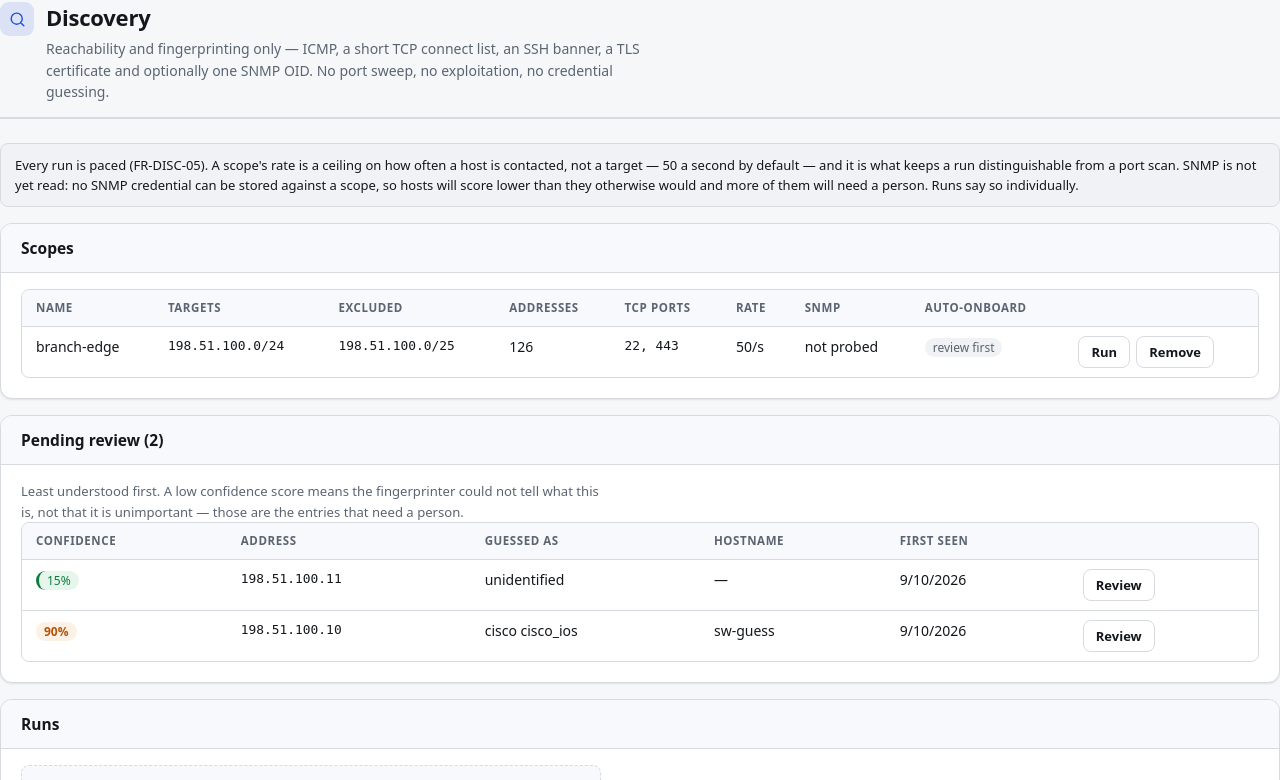
Test: DiscoveryPage › the review queue › shows the probe evidence behind a fingerprint
Expected: the text "198.51.100.10" is shown, [227, 611, 471, 661]
Click the button "Review" in the row of "90" at coordinates (1119, 636), box [1083, 620, 1155, 652]
(page scrolled)
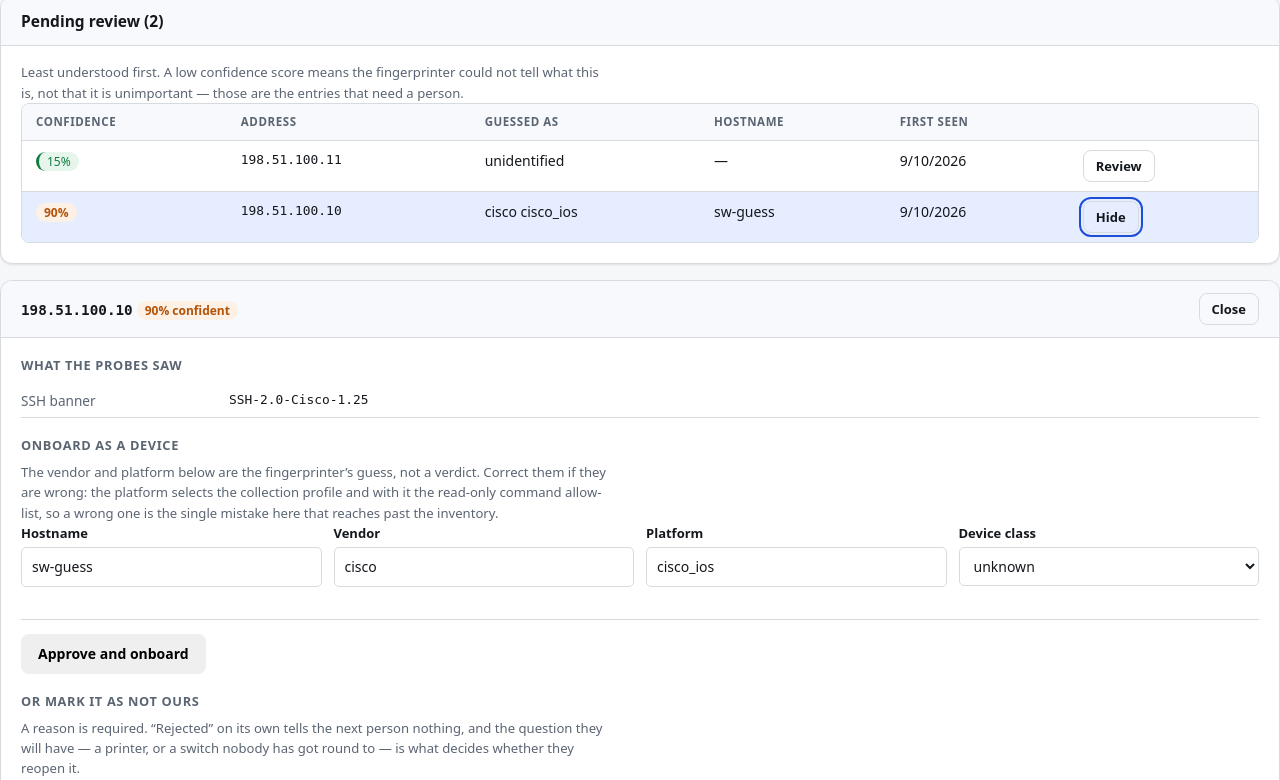
Result: the text "SSH banner" is shown at [21, 391, 96, 410]
Result: the text "SSH-2.0-Cisco-1.25" is shown at [229, 392, 368, 407]
